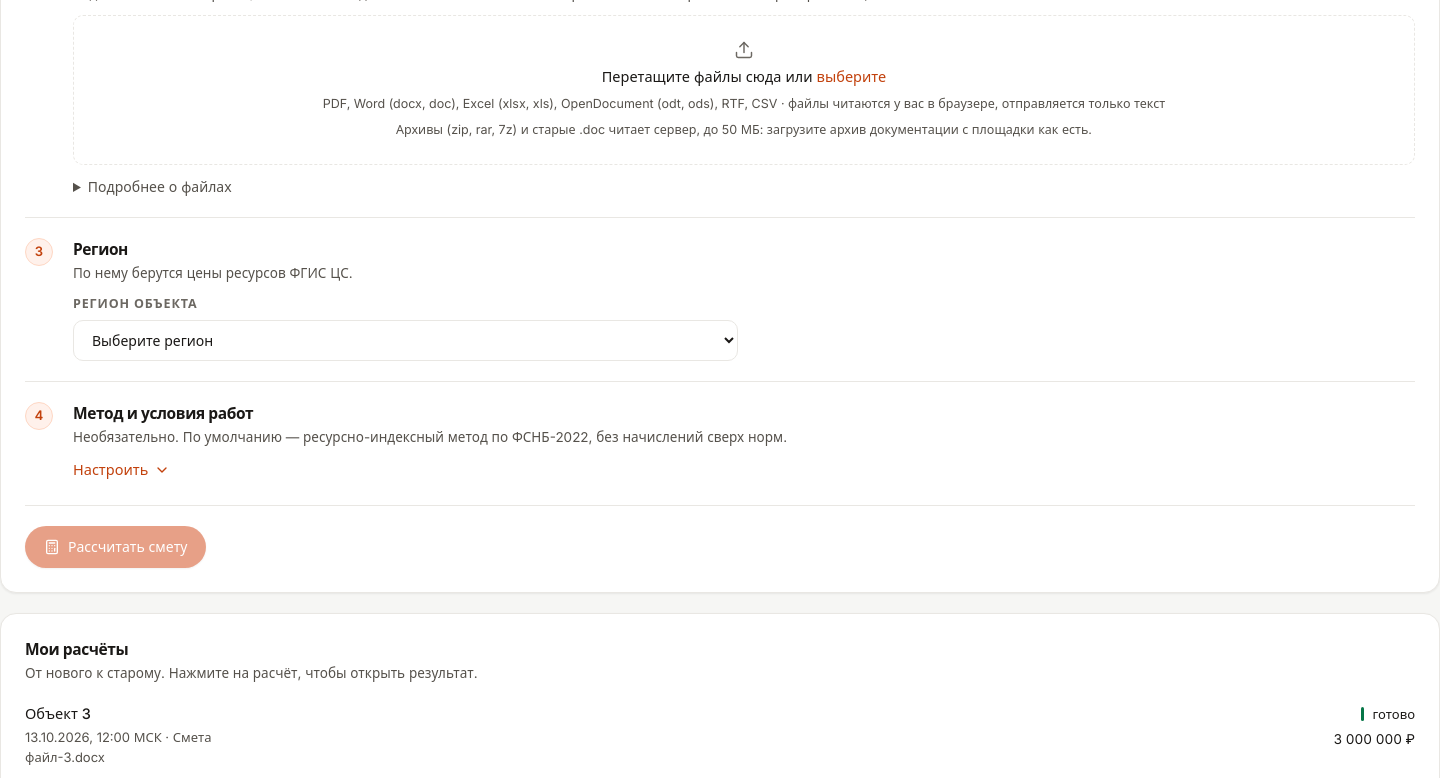
EstimateUploadView — «Мои расчёты» › «Закрыть» убирает результат и номер из адреса
This screenshot has width=1440, height=778.
(page scrolled)
Click the button with aria-label "Открыть расчёт: Объект 3".
click(58, 714)  # box [25, 703, 1321, 767]
(page scrolled)
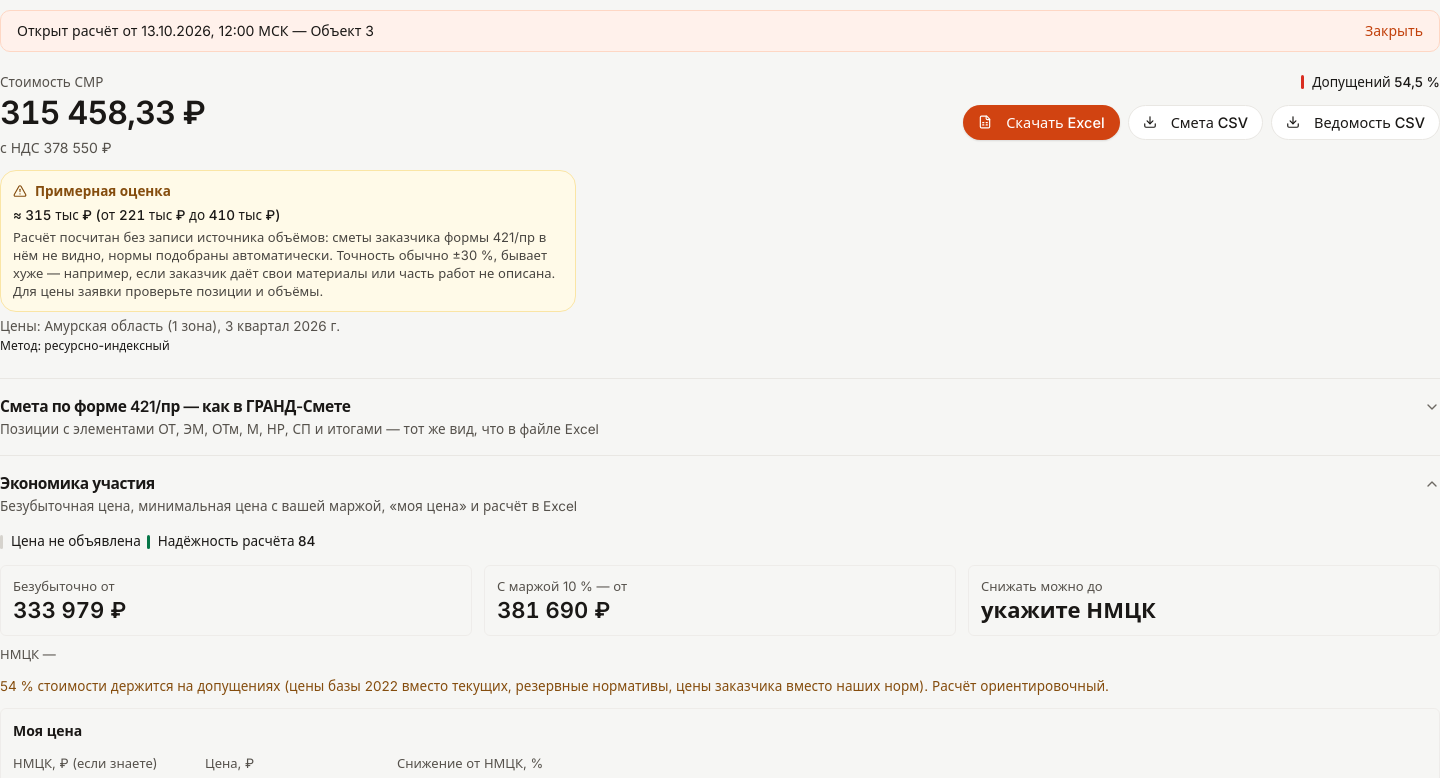
Expected: the text "Стоимость СМР" is shown, [0, 74, 103, 90]
Click the button "Закрыть".
click(1394, 31)  # box [1365, 21, 1423, 41]
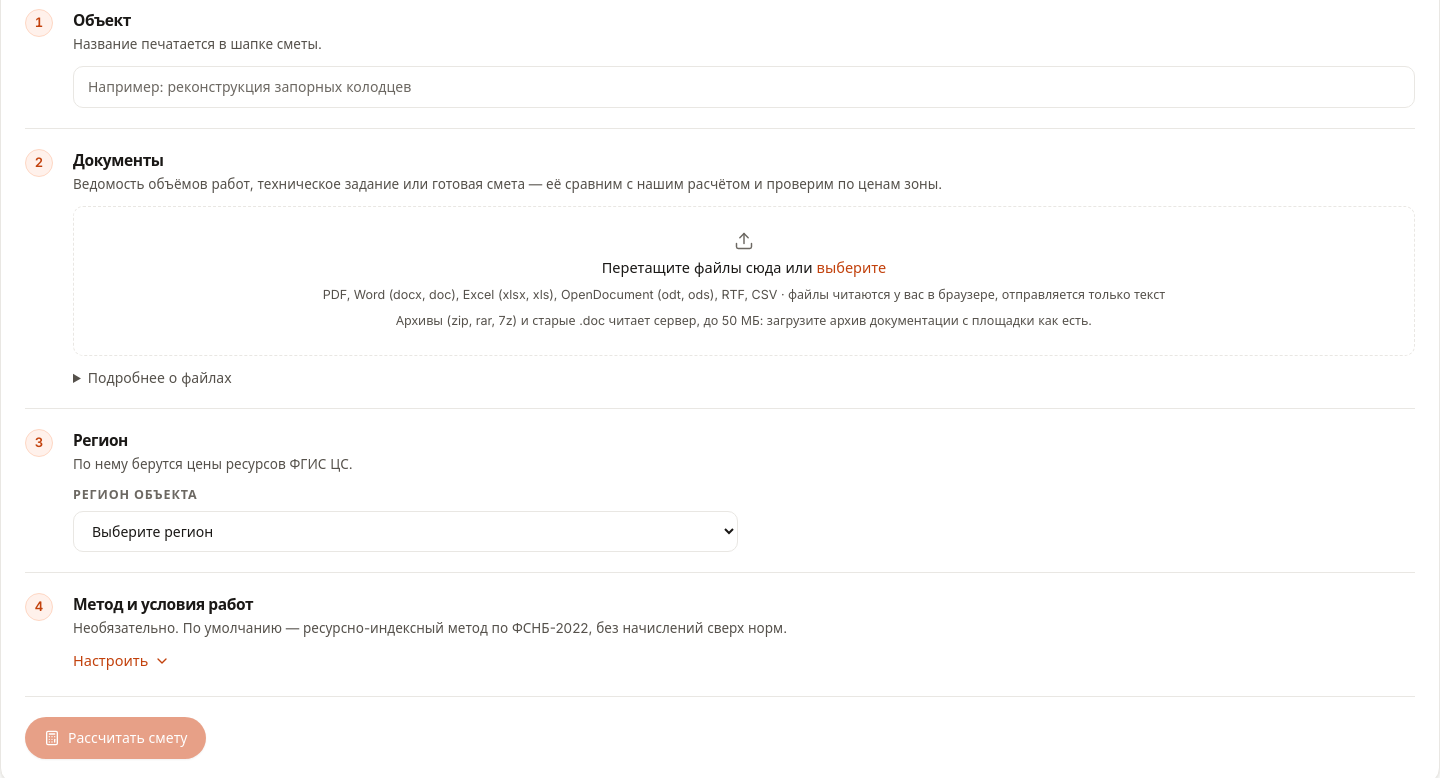
Expected: the text "Стоимость СМР" is gone
